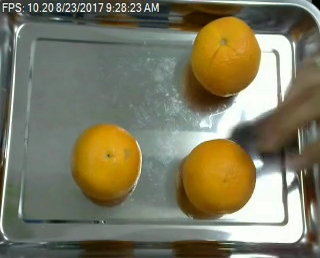Orange: (191, 14, 261, 96), (181, 139, 257, 214), (71, 122, 142, 201)
